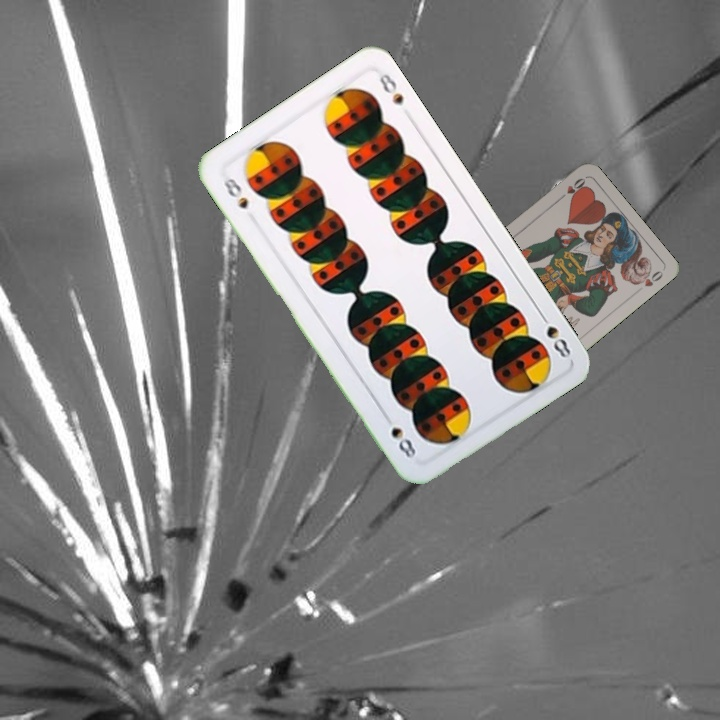HO: (554, 173, 588, 204)
S8: (535, 307, 574, 361), (219, 174, 251, 212)
